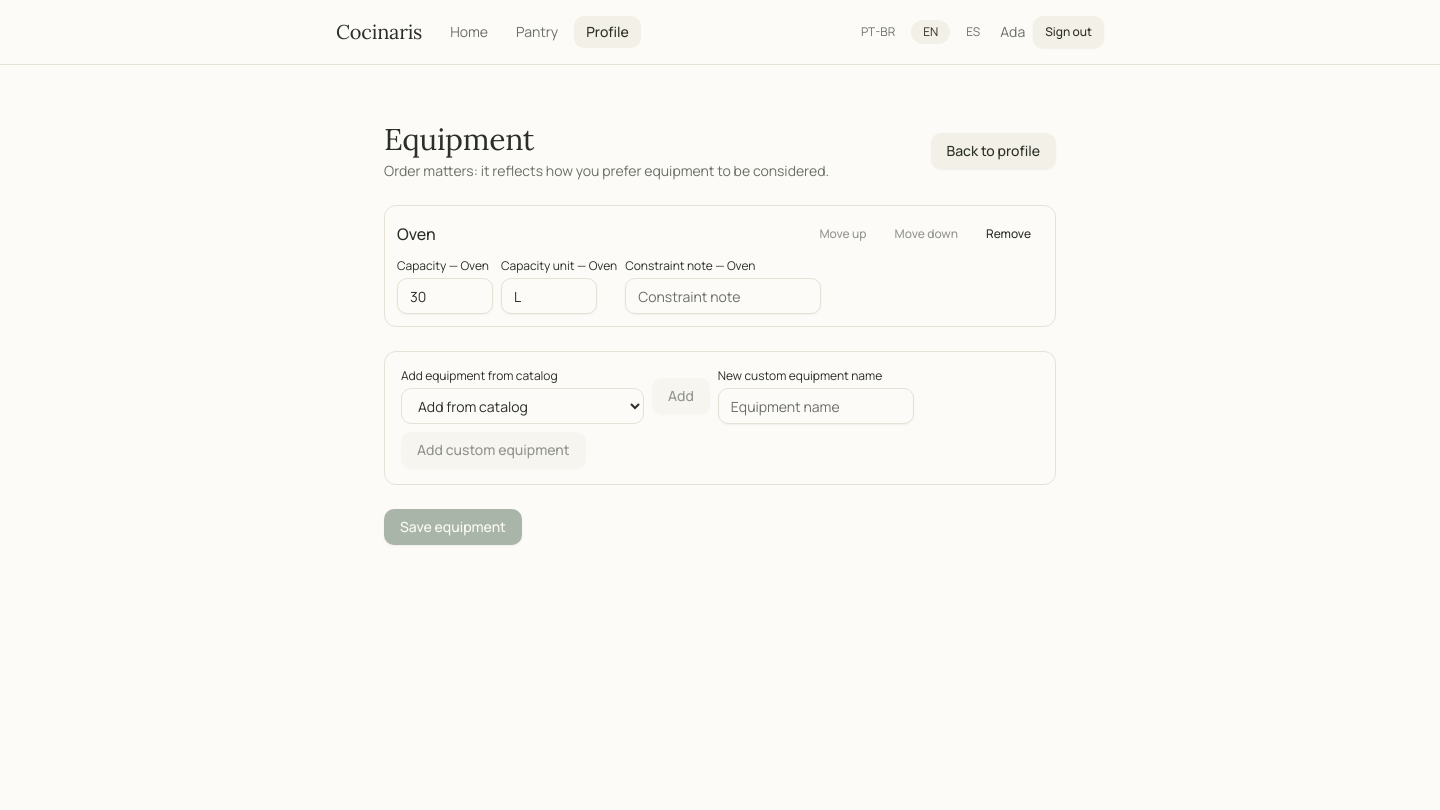
ProductionApp dirty logout protection › prompts before logout when Equipment is dirty
Expected: the element with test id "profile-equipment" is shown, [384,121,1056,545]
Replace the text in the number field with test id "profile-equipment-capacity-eq-oven" with "40" at x=445, y=296, box [397,278,493,314]
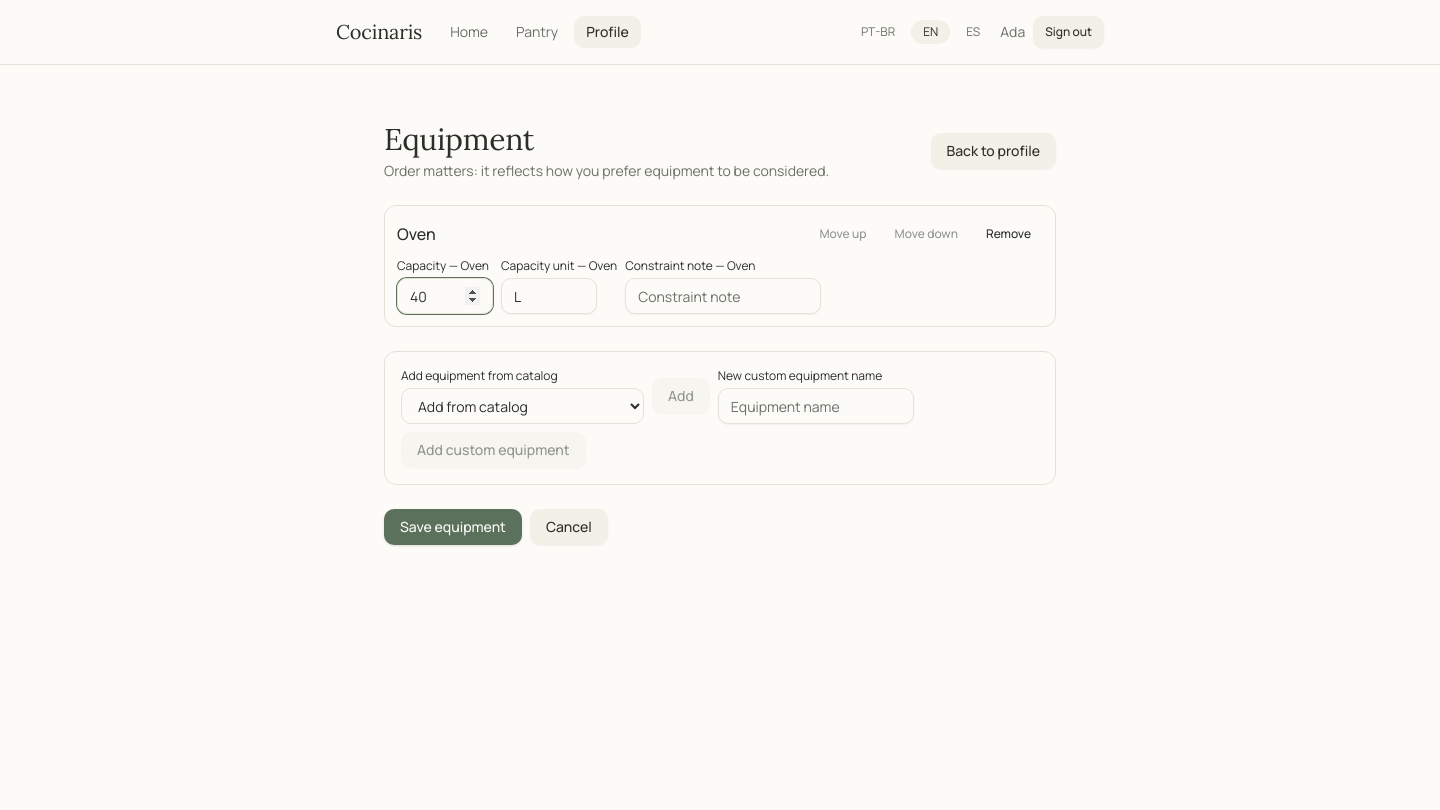
Click the button with test id "production-logout".
click(1069, 32)  # box [1033,16,1104,48]
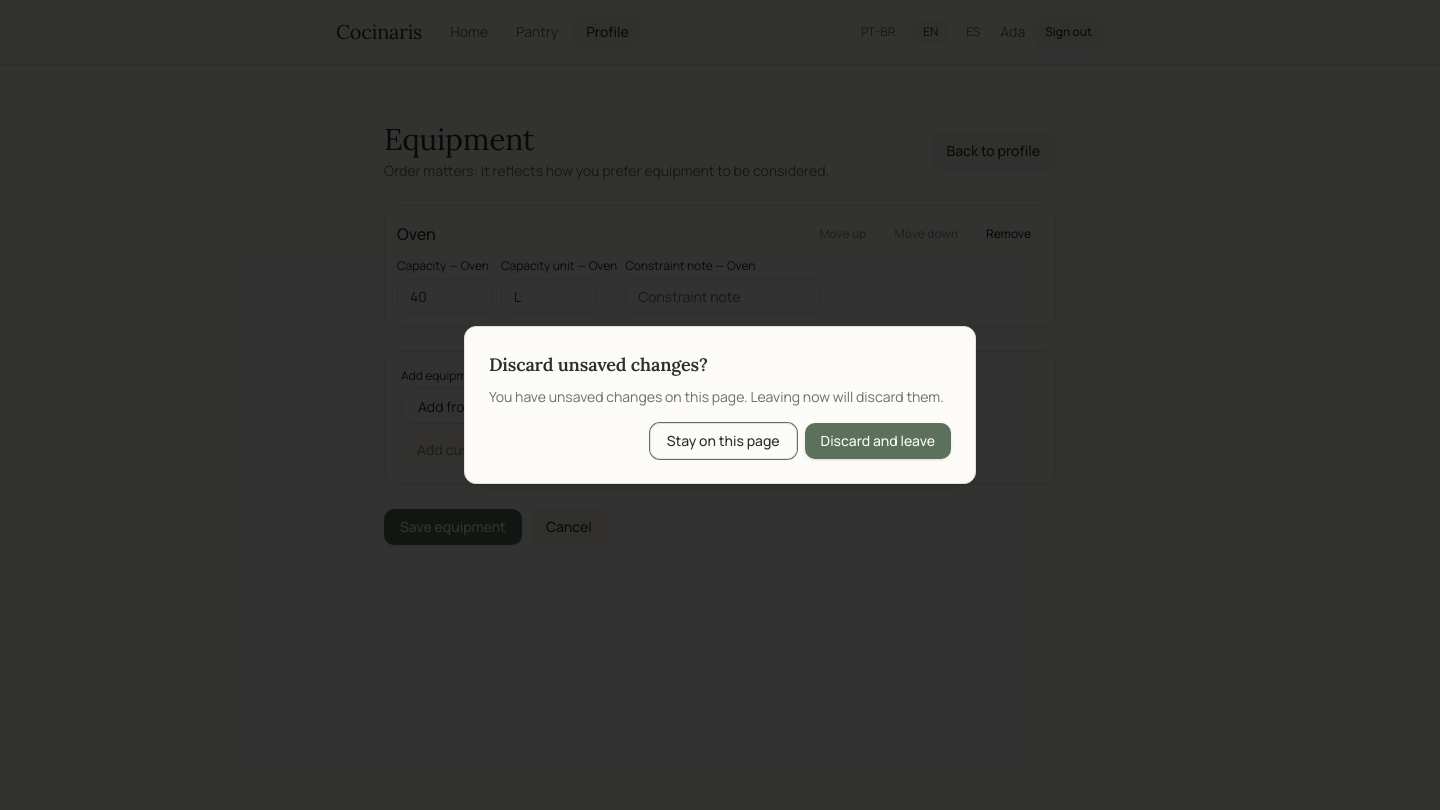
Expected: the dialog is shown, [464,326,976,484]
